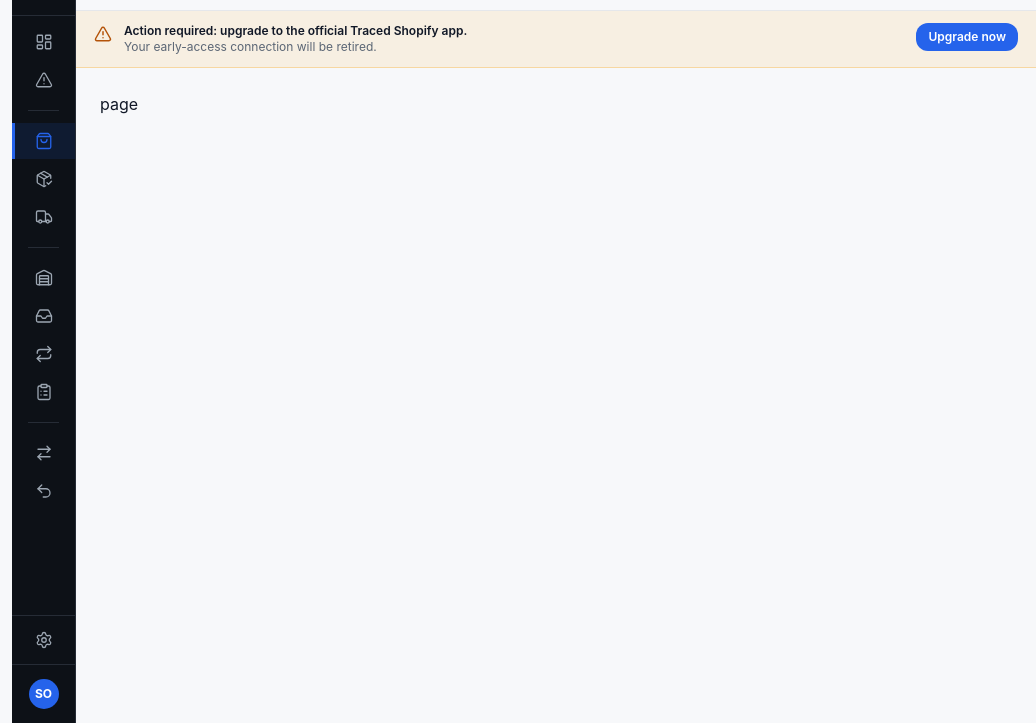
Test: app-wide upgrade notice — Layout › u1 — owner, upgrade stage: banner + "Upgrade now" goes to the focused Connections card
Expected: the text "Action required: upgrade to the official Traced Shopify app." is shown, [124, 23, 467, 38]
Expected: the text "Your early-access connection will be retired." is shown, [124, 39, 377, 54]
Click the button "Upgrade now": (967, 37) [916, 23, 1018, 51]
(page scrolled)
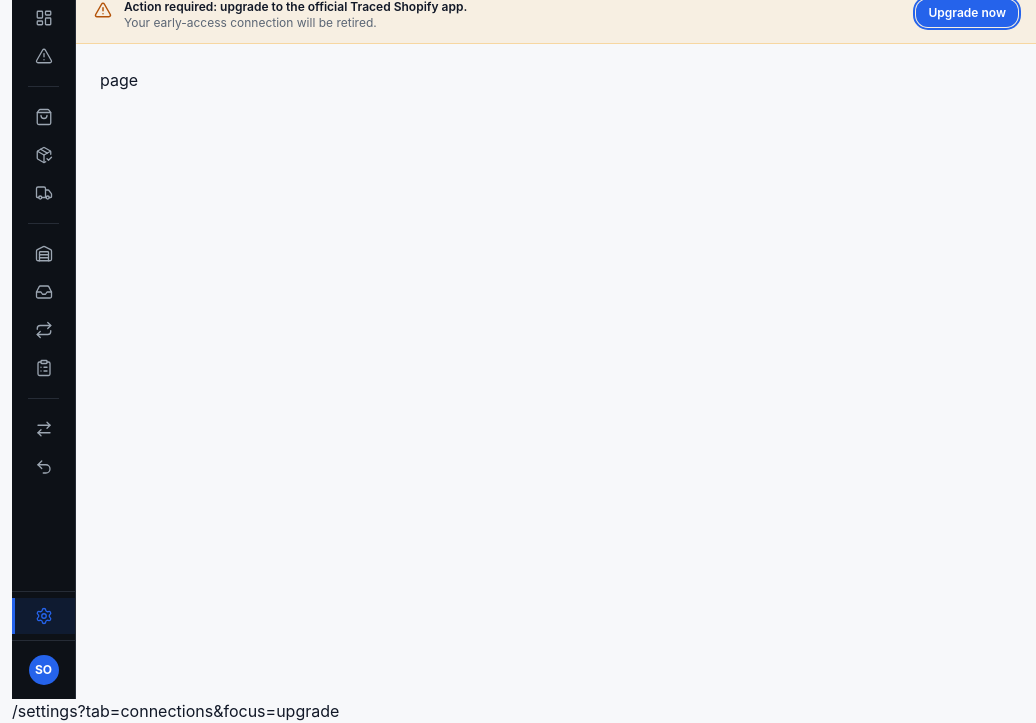
Result: the text with test id "location" reads "/settings?tab=connections&focus=upgrade" at [12, 701, 339, 721]
